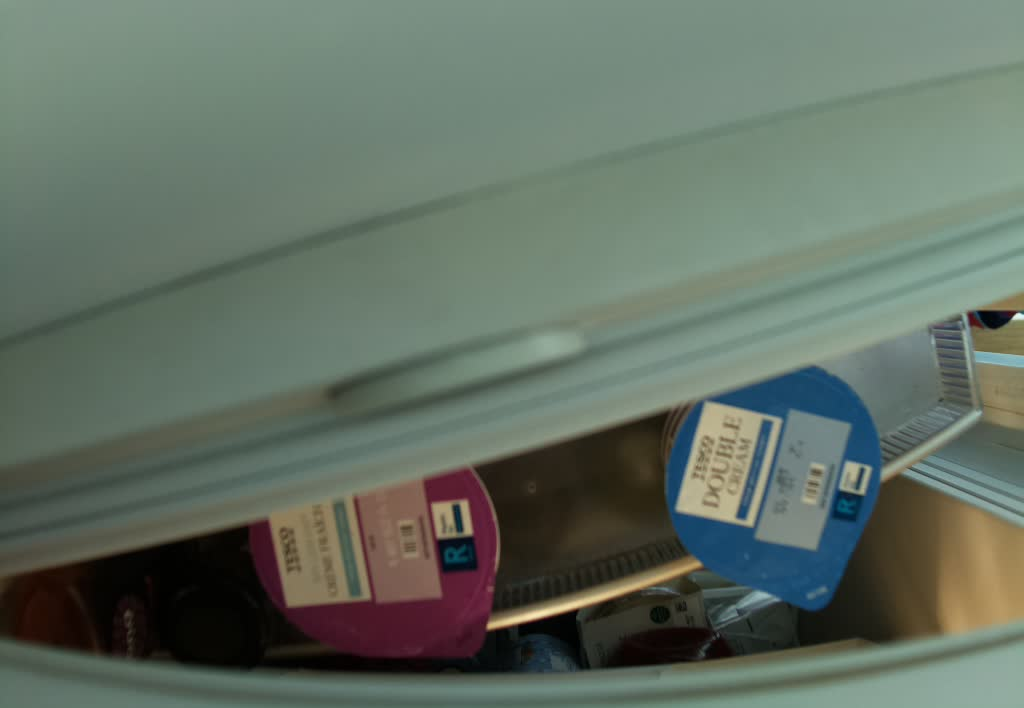cream: (666, 361, 884, 610), (247, 468, 503, 657)
